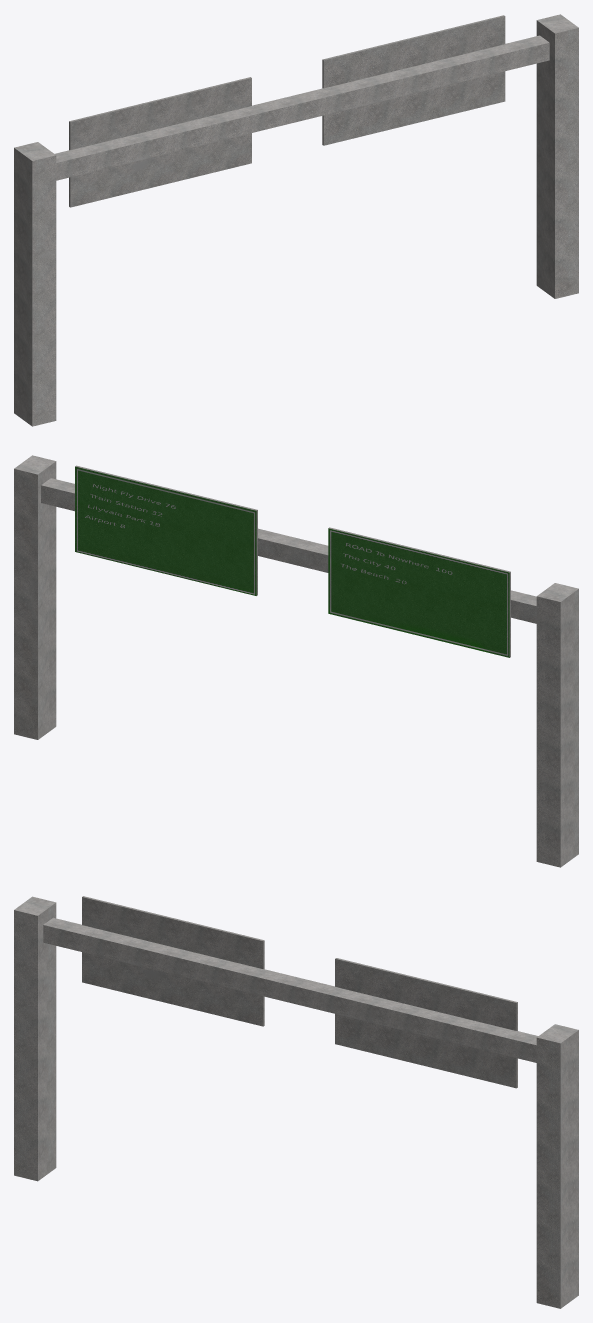
The model's file is Start sign.fbx.
3 views of the same model, one above another, from view 1: azimuth 30°, elevation 25°; view 2: azimuth 150°, elevation 25°; view 3: azimuth 330°, elevation 25° (orthographic).
Parts seen in each view (by area): view 1: StartSign; view 2: StartSign; view 3: StartSign.
Part boxes in pixels (<box>): StartSign: <box>14,14,578,426</box>; StartSign: <box>14,455,578,867</box>; StartSign: <box>14,896,578,1308</box>.
Bounding box in the file's own units: 1299 × 637 × 75.69.
1 material, 1 textured.
